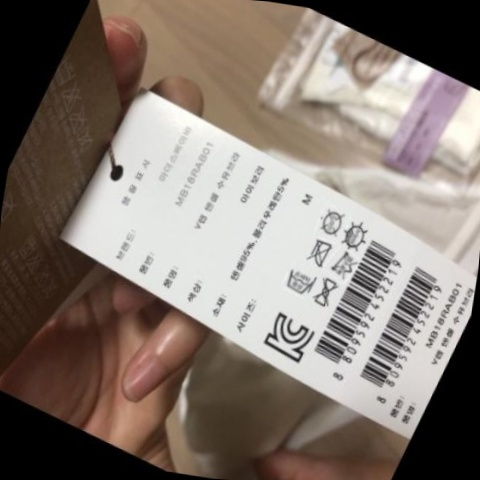DN_dry_clean: (316, 204, 348, 239)
DN_iron: (304, 235, 337, 270)
DN_wring: (314, 277, 345, 310)
dry_flat_in_shade: (342, 216, 372, 249)
hand_wash: (283, 266, 321, 298)
non_chlorine_bleach: (334, 250, 362, 280)
